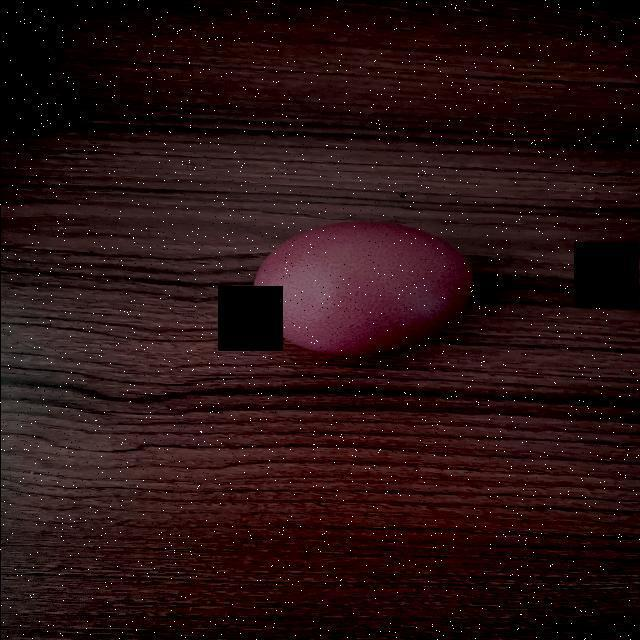egg: (244, 216, 486, 358)
